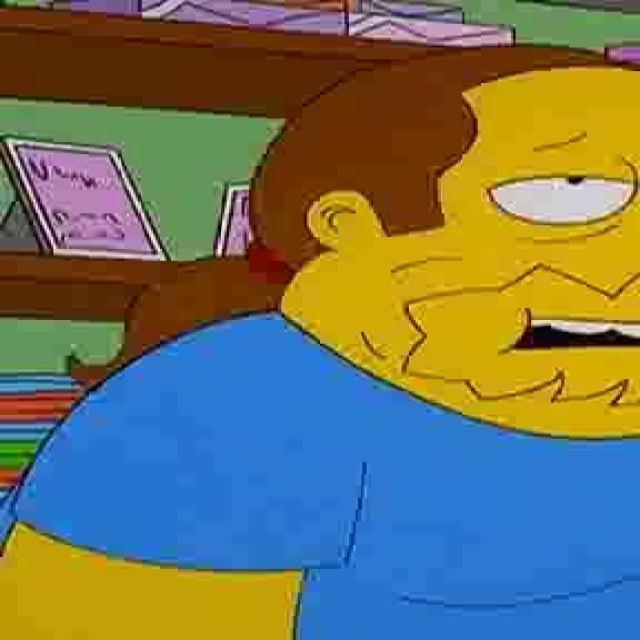Comic Book Guy: (222, 41, 640, 442)
